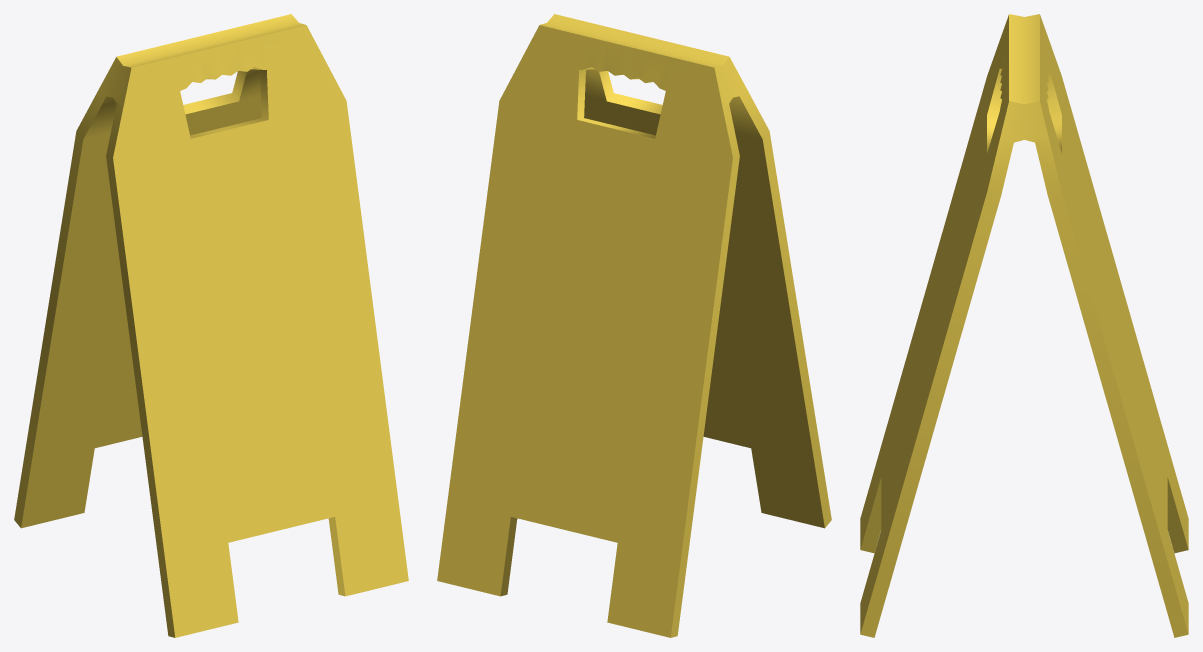
The model's file is WetFloorSign_01.glb.
3 views of the same model, side by side, from view 1: azimuth 30°, elevation 25°; view 2: azimuth 150°, elevation 25°; view 3: azimuth 270°, elevation 25° (orthographic).
Visible parts, largest first — view 1: WetFloorSign_01; view 2: WetFloorSign_01; view 3: WetFloorSign_01.
Part boxes in pixels (box(x1,y1,x2,y2)): WetFloorSign_01: box(14, 14, 408, 637); WetFloorSign_01: box(437, 14, 831, 637); WetFloorSign_01: box(860, 14, 1188, 637).
Bounding box in the file's own units: 0.3001 × 0.6295 × 0.3585.
